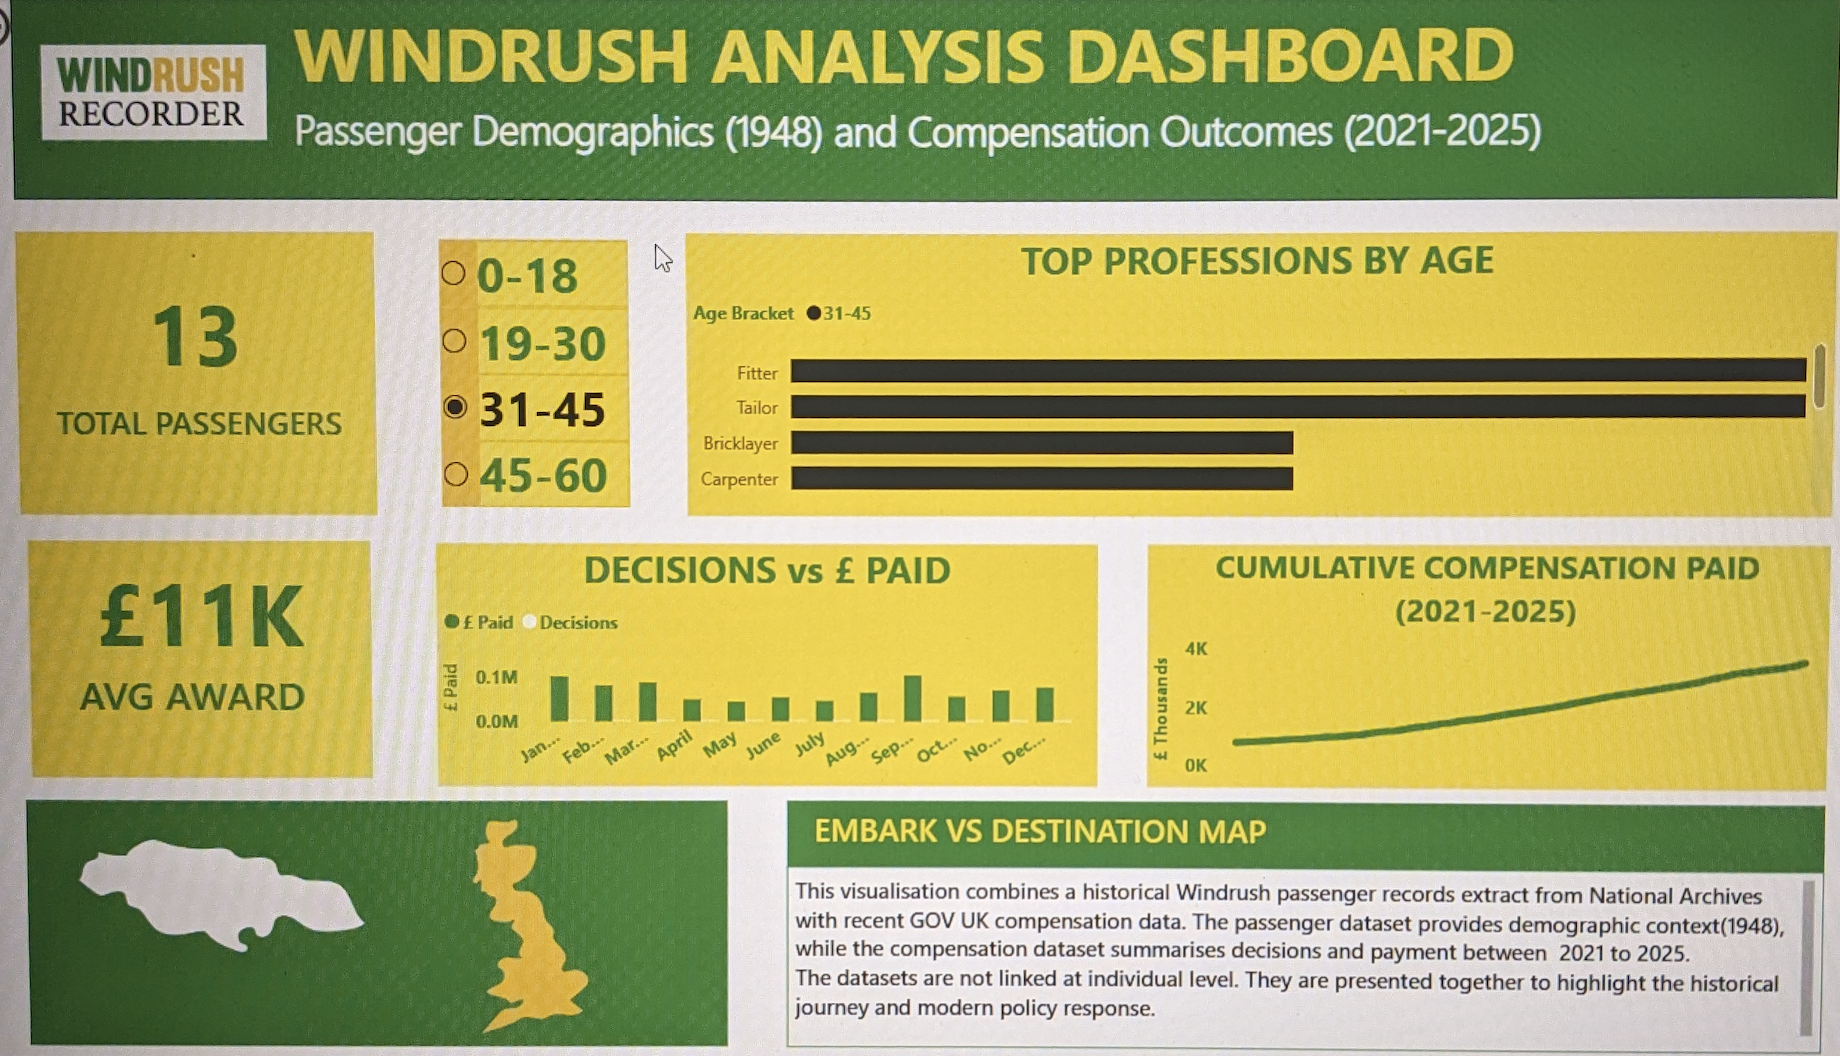

The dashboard page shown, as its layout file describes it:
{"tool":"powerbi","page":{"name":"Page 1","canvas":[1280,720],"ordinal":0},"visuals":[{"type":"cardVisual","fields":{"Data":["national_archives_passengerlist_clean.Passenger Count"]},"box":[35.4,156.6,242.4,190.6],"z":0},{"type":"actionButton","box":[0,0,100,40],"z":1000},{"type":"shape","box":[35.4,0,1222.2,135.1],"z":2000},{"type":"textbox","box":[221.3,0,996,156.8],"z":3000},{"type":"textbox","box":[50.5,265.1,215.9,49.2],"z":4000},{"type":"listSlicer","fields":{"Values":["national_archives_passengerlist_clean.Age Bracket"]},"box":[316.9,156.6,136.4,190.6],"z":5000},{"type":"barChart","title":"TOP PROFESSIONS BY AGE","fields":{"Category":["national_archives_passengerlist_clean.Profession"],"Y":["national_archives_passengerlist_clean.Passenger Count"],"Series":["national_archives_passengerlist_clean.Age Bracket"]},"box":[487.4,156.6,770.2,190.6],"z":6000},{"type":"lineChart","title":"CUMULATIVE COMPENSATION PAID (2021-2025)","fields":{"Y":["Max(compensation_monthly_clean 1.cumulative _paid)"],"Category":["compensation_monthly_clean 1.month.Variation.Date Hierarchy.Year","compensation_monthly_clean 1.month.Variation.Date Hierarchy.Month"]},"box":[800.5,366.1,457.1,165.4],"z":7000},{"type":"cardVisual","fields":{"Data":["compensation_monthly_clean 1.Average Award per Decison"]},"box":[35.4,359.8,242.4,171.7],"z":8000},{"type":"textbox","box":[35.4,445.7,231.1,56.8],"z":9000},{"type":"shape","box":[35.4,541.6,478.5,169.2],"z":9500},{"type":"clusteredColumnChart","title":"DECISIONS vs  £ PAID","fields":{"Category":["compensation_monthly_clean 1.month.Variation.Date Hierarchy.Year","compensation_monthly_clean 1.month.Variation.Date Hierarchy.Month"],"Y":["compensation_monthly_clean 1.Monthly Paid £","Sum(compensation_monthly_clean 1.total_final _decisions)"]},"box":[316.9,366.1,449.5,165.4],"z":10000},{"type":"textbox","box":[554.3,541.6,703.3,45.5],"z":12000},{"type":"textbox","box":[568.2,541.6,359.8,45.5],"z":13000},{"type":"textbox","box":[554.3,587.1,703.3,123.7],"z":14000},{"type":"image","box":[59.3,553,218.4,114.9],"z":15000},{"type":"image","box":[295.4,541.6,167.9,169.2],"z":15001},{"type":"image","box":[50.5,20.2,161.6,87.1],"z":15002}]}

Visuals, with their boxes in screenshot pixels (x1, y1, x2, y2), scaled from the page's 1280x720 canvas onto the 1840x1056 screenshot:
cardVisual - national_archives_passengerlist_clean.Passenger Count: (51,230,399,509)
actionButton: (0,0,144,59)
shape: (51,0,1808,198)
textbox: (318,0,1750,230)
textbox: (73,389,383,461)
listSlicer - national_archives_passengerlist_clean.Age Bracket: (456,230,652,509)
"TOP PROFESSIONS BY AGE" barChart: (701,230,1808,509)
"CUMULATIVE COMPENSATION PAID (2021-2025)" lineChart: (1151,537,1808,780)
cardVisual - compensation_monthly_clean 1.Average Award per Decison: (51,528,399,780)
textbox: (51,654,383,737)
shape: (51,794,739,1043)
"DECISIONS vs  £ PAID" clusteredColumnChart: (456,537,1102,780)
textbox: (797,794,1808,861)
textbox: (817,794,1334,861)
textbox: (797,861,1808,1043)
image: (85,811,399,980)
image: (425,794,666,1043)
image: (73,30,305,157)
